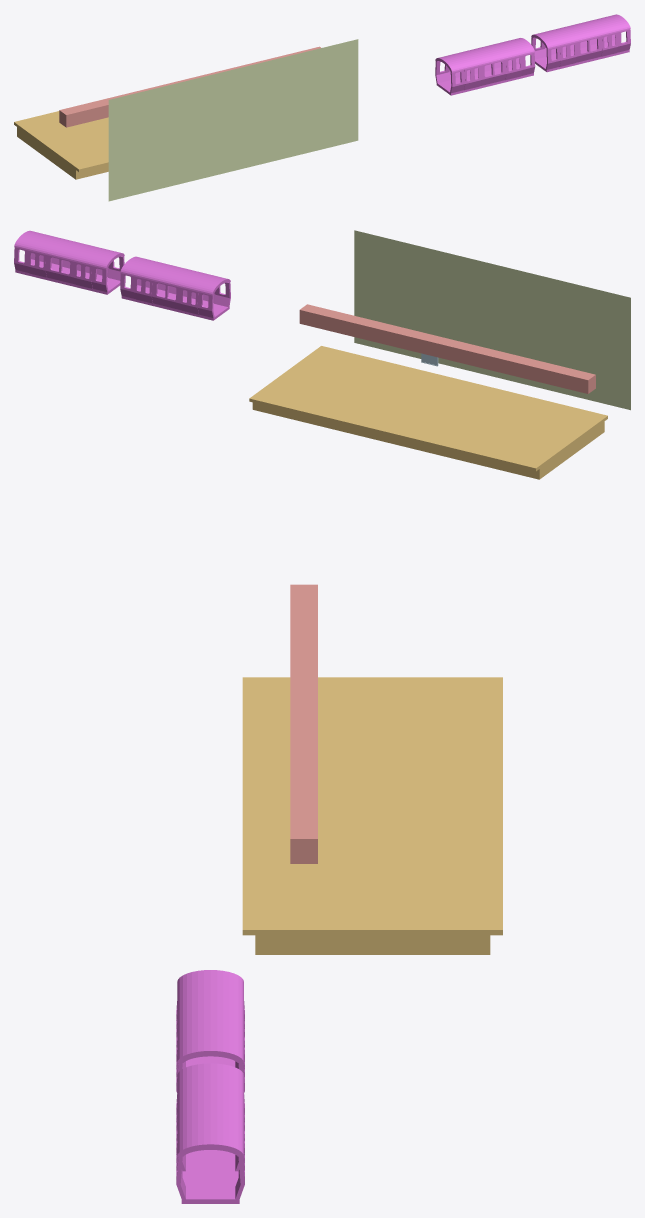
Rendered from Transit-2car-doorAni-552.glb.
3 renders of one model, top to bottom at view 1: azimuth 30°, elevation 25°; view 2: azimuth 150°, elevation 25°; view 3: azimuth 270°, elevation 25°, orthographic. The views are drawn at different scales.
Visible parts, largest first — view 1: Wall-Plane, Train-Complete, Platform, Roof.002; view 2: Wall-Plane, Platform, Train-Complete, Roof.002, Door-Left, Door-right; view 3: Platform, Train-Complete, Roof.002.
Part boxes in pixels (x1,y1,x2,y2): Wall-Plane: (108,39,358,201); Train-Complete: (435,14,630,95); Platform: (14,111,108,179); Roof.002: (59,46,320,127); Wall-Plane: (354,230,630,410); Platform: (249,346,607,479); Train-Complete: (14,230,230,320); Roof.002: (299,304,595,393); Door-Left: (28,251,190,312); Door-right: (37,253,198,314); Platform: (242,677,502,954); Train-Complete: (176,970,244,1203); Roof.002: (290,584,317,863).
Bounding box in the file's own units: 89.77 × 16.24 × 26.14.
